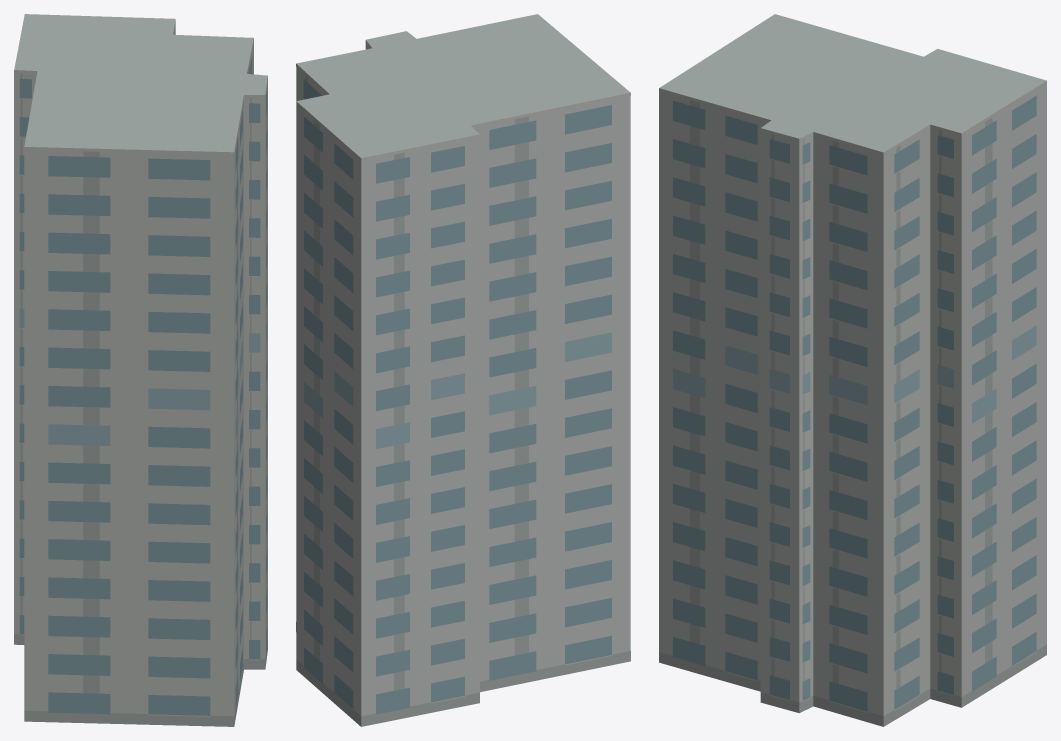
File: survey-upis-32746637.glb
The picture shows the model from 3 angles, left to right: view 1: azimuth 30°, elevation 25°; view 2: azimuth 150°, elevation 25°; view 3: azimuth 270°, elevation 25°; orthographic projection.
Parts seen in each view (by area): view 1: survey-upis-32746637.tmp; view 2: survey-upis-32746637.tmp; view 3: survey-upis-32746637.tmp.
Part boxes in pixels (x1,y1,x2,y2): survey-upis-32746637.tmp: [14, 14, 267, 726]; survey-upis-32746637.tmp: [296, 14, 630, 726]; survey-upis-32746637.tmp: [659, 14, 1046, 726].
Bounding box in the file's own units: 23.66 × 45.75 × 28.
